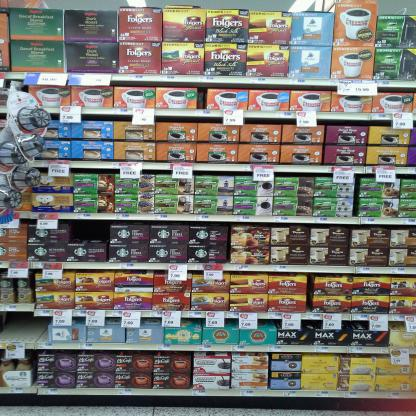Void: (2, 314, 38, 338), (78, 219, 114, 242)
